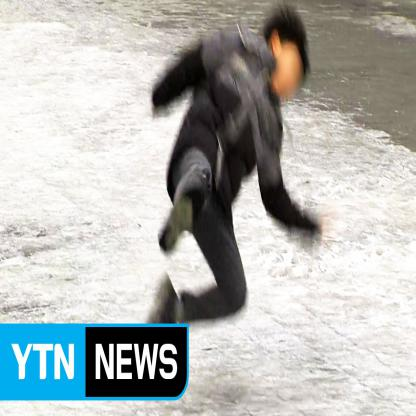Fall_Down: (142, 11, 328, 336)
